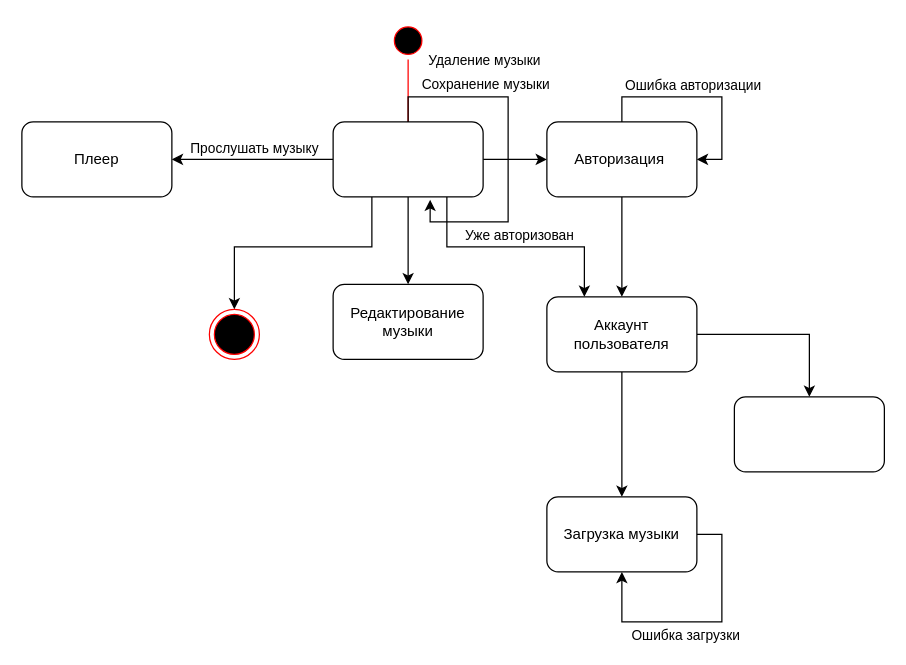
Image size: 906x665. Some labels were removed from this diagram. Each missing label, with the centre of its shape:
"Главная страница" belongs at [407,159].
"Просмотр музыки" belongs at [808,434].
